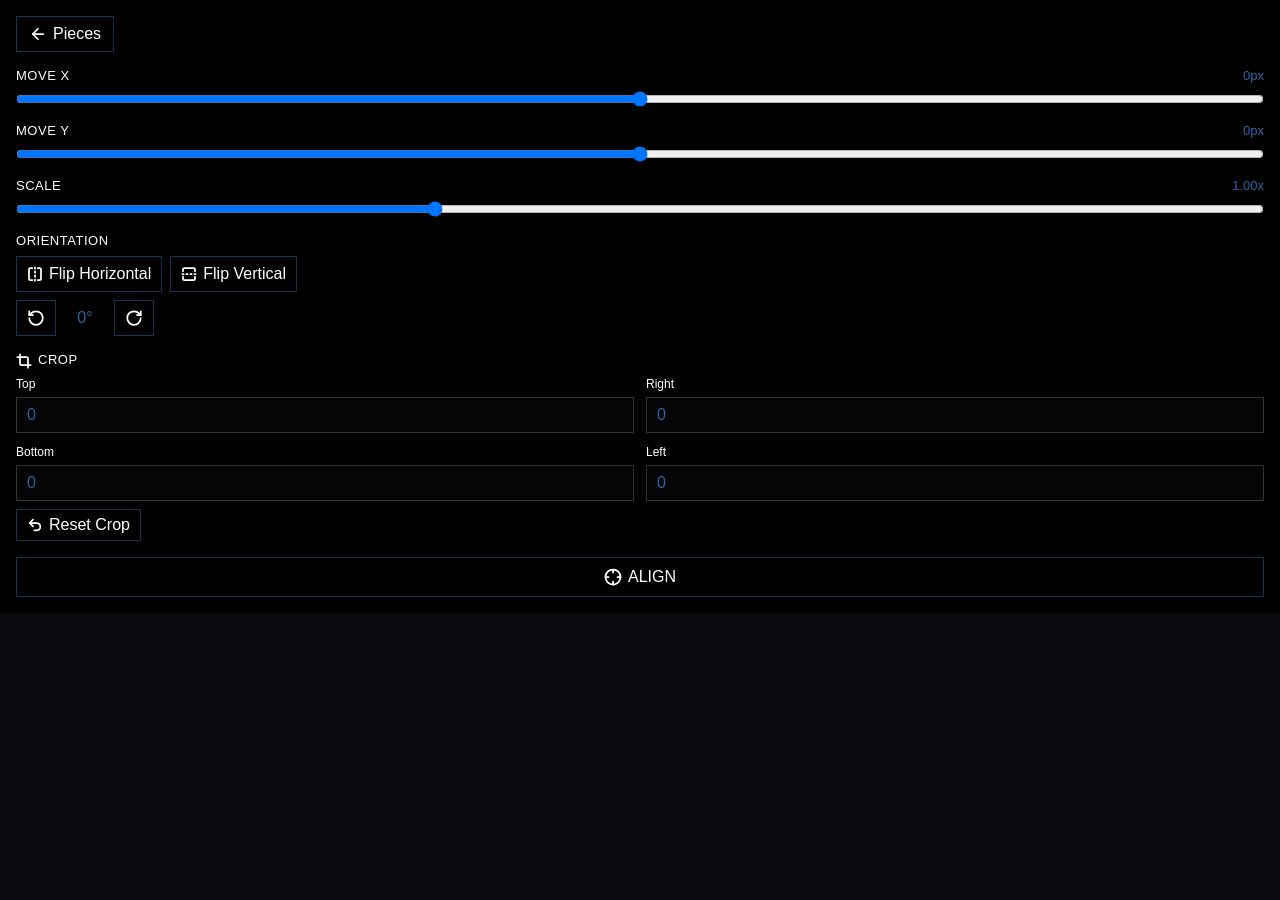
Test case: CameraControlsPanel › cancels alignment and restores keyboard opacity
What coordinates should you click on to do the following:
click the button "ALIGN"
I would click on:
 (640, 577)
Its box is [16,557,1264,597].
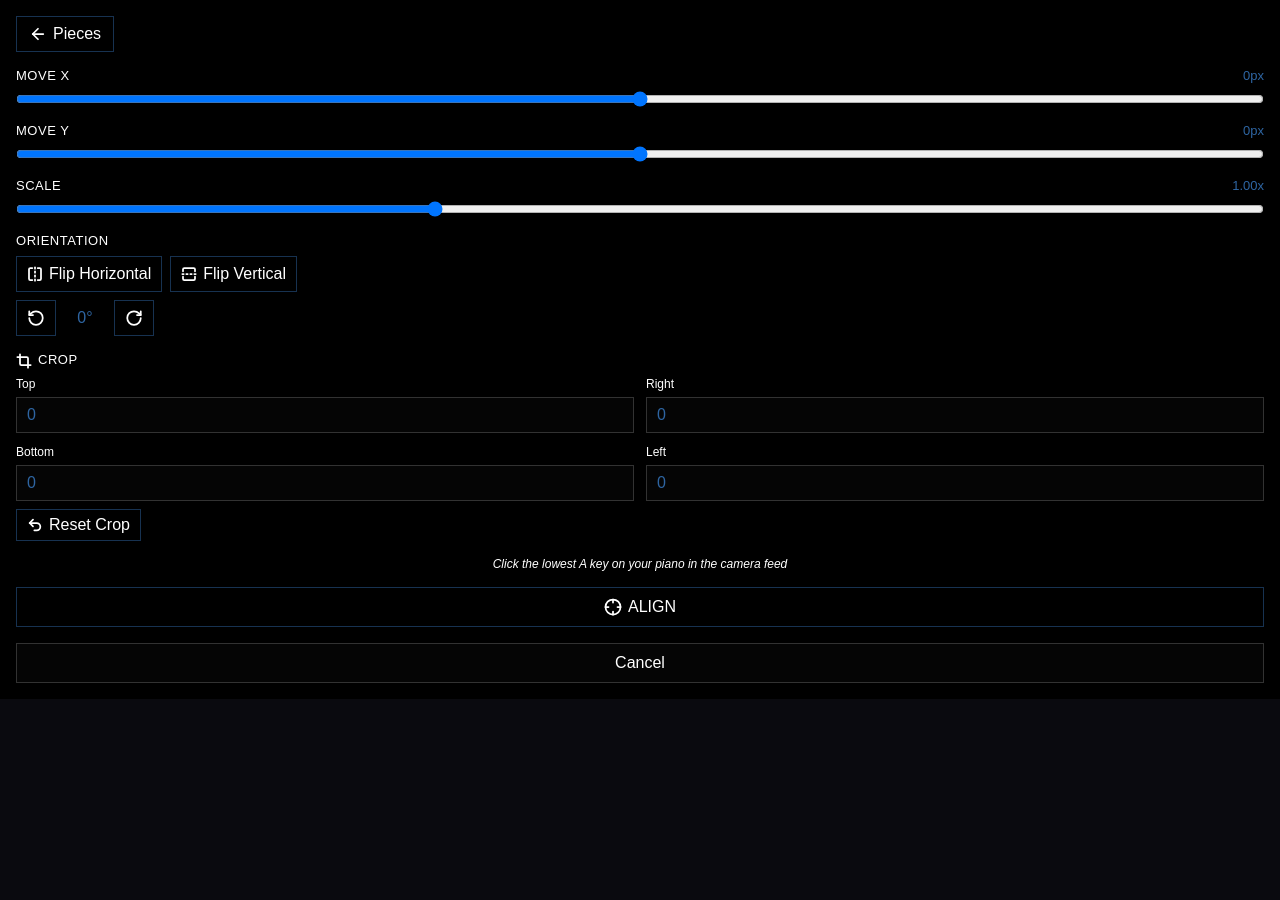
What coordinates should you click on to do the following:
click the button "Cancel"
I would click on:
 (640, 663)
Its box is [16,643,1264,683].
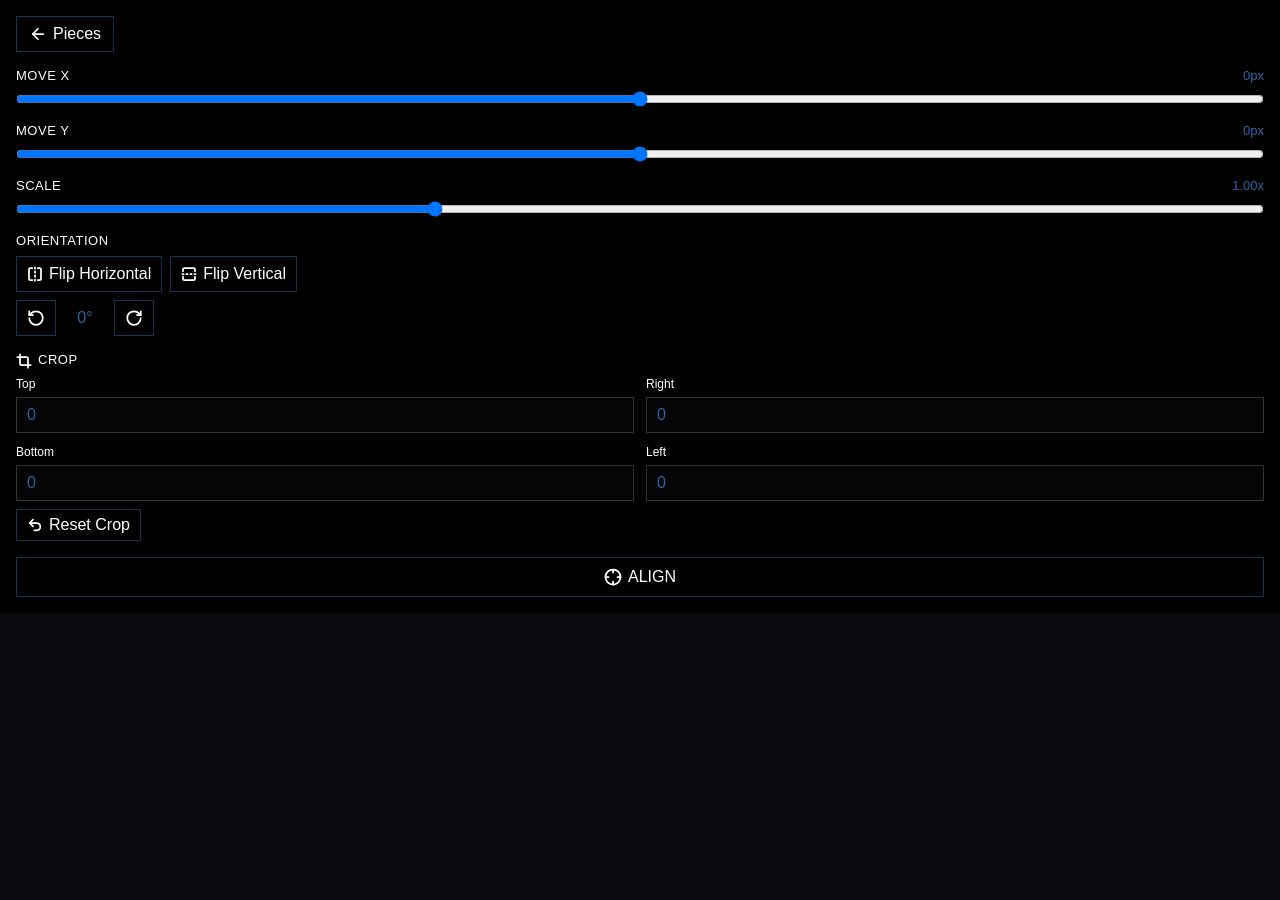
Expected: the text "Click the lowest A key on your piano in the camera feed" is gone
